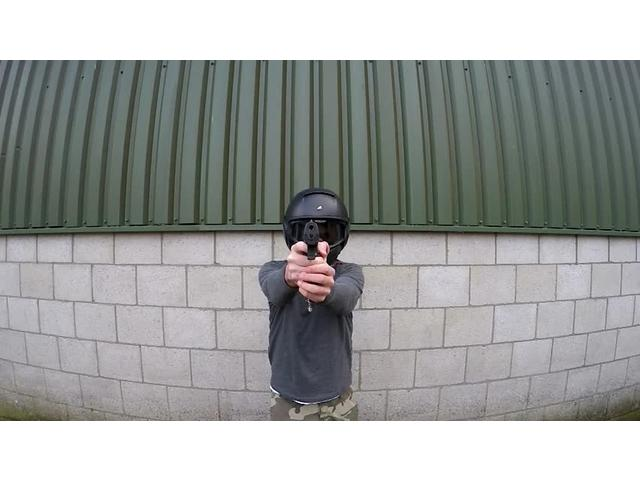pistol: (299, 222, 325, 292)
